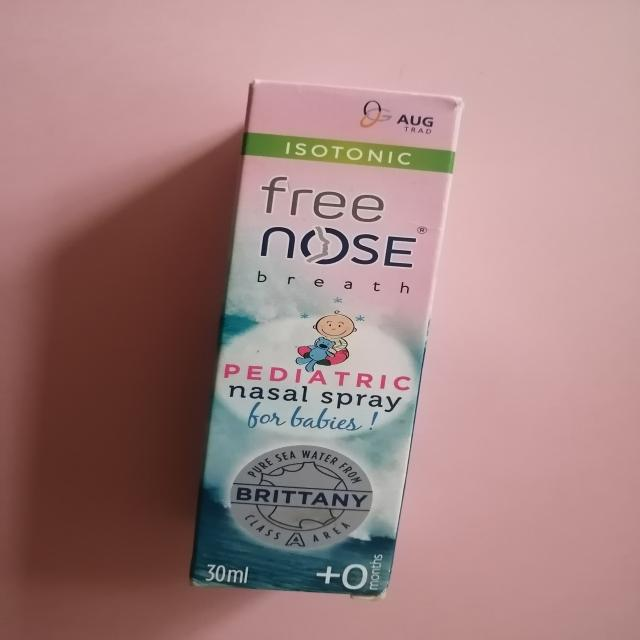Free Nose: (169, 65, 460, 602)
